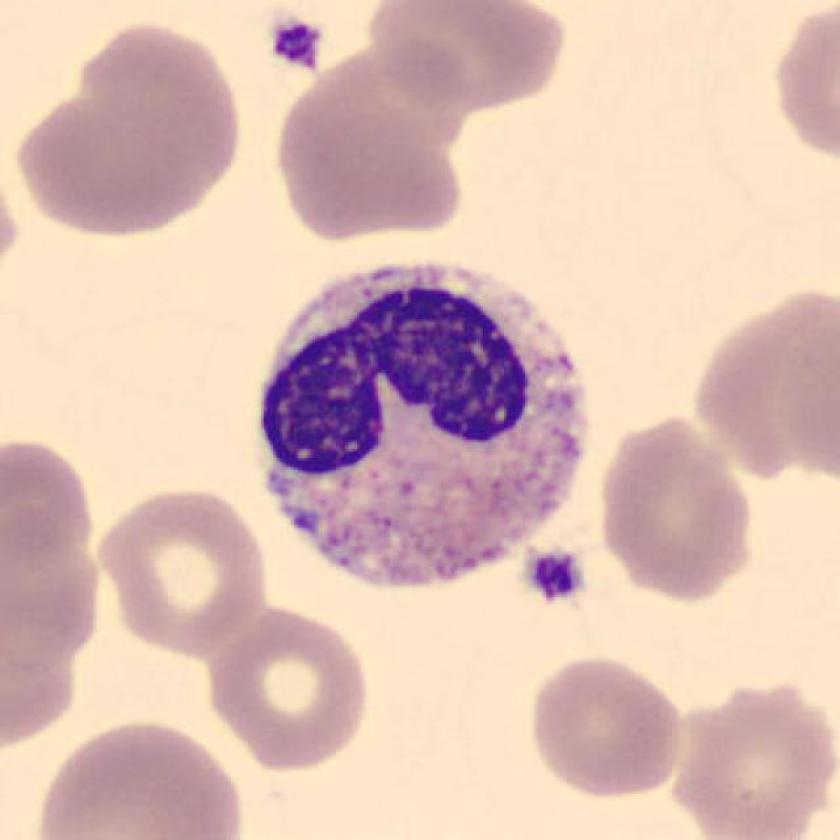neutrophil: (258, 254, 580, 584)
